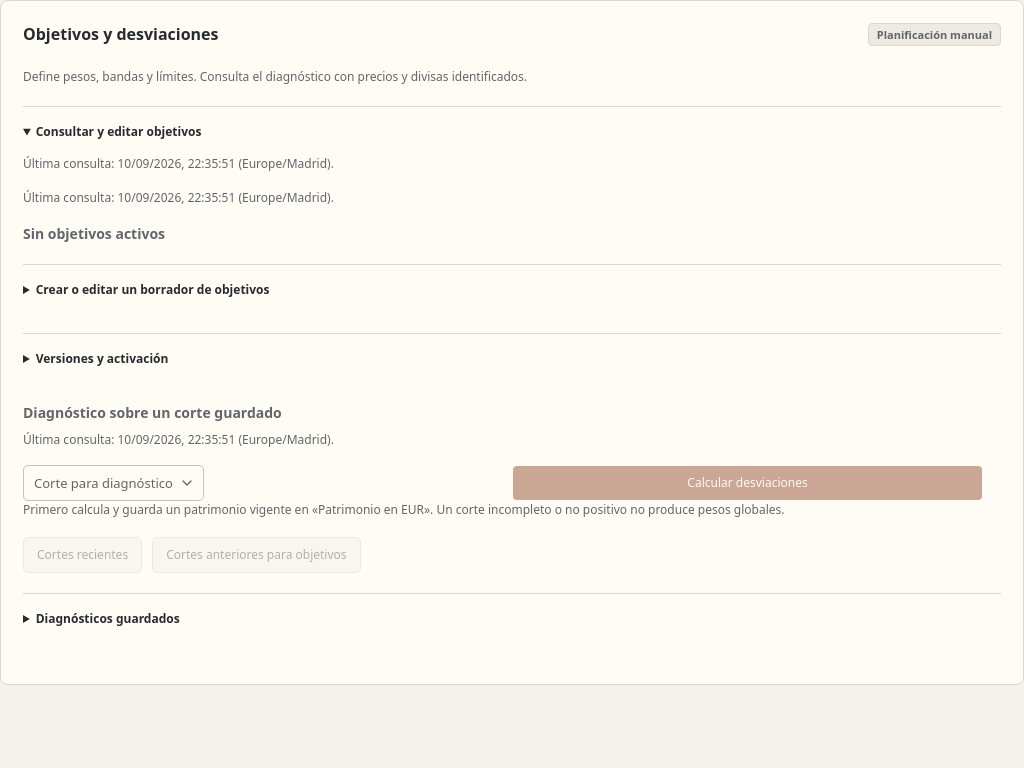
it: reads only when opened and preserves a draft when details are closed
Check: the heading "Sin objetivos activos" is shown, box [23, 224, 165, 243]
Click the heading "Crear o editar un borrador de objetivos": (153, 290) [36, 281, 270, 298]
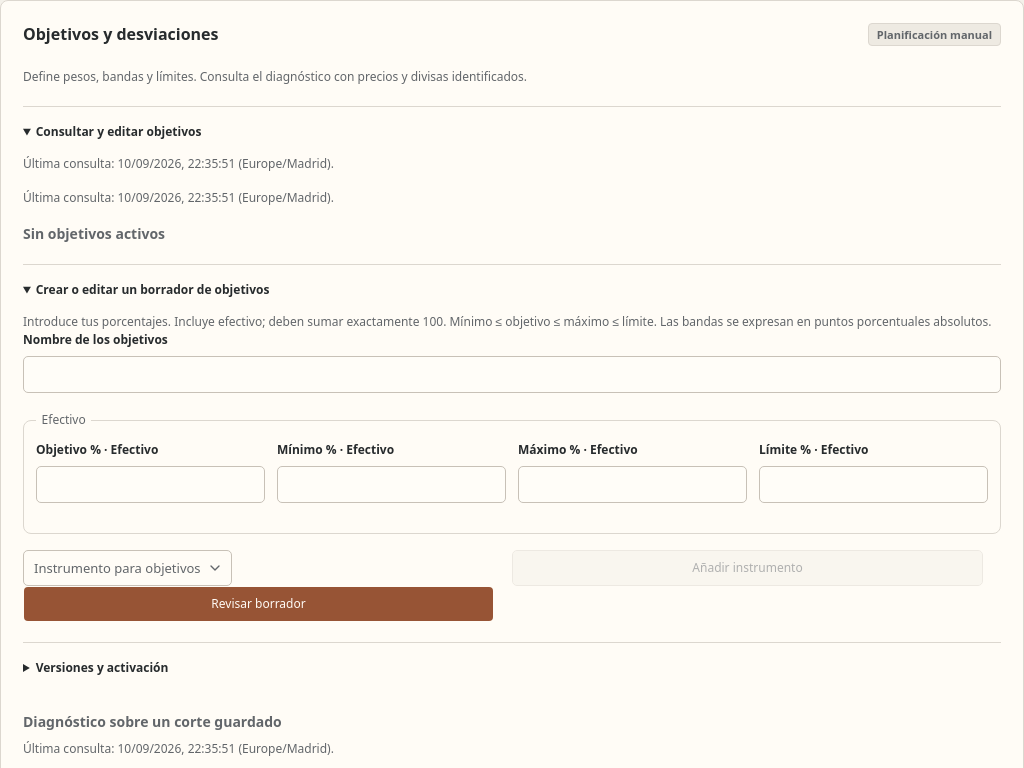
In the field labelled "Nombre de los objetivos": (512, 375) [23, 356, 1001, 393], type "Mi distribución"
In the number field labelled "Objetivo % · Efectivo": (150, 485) [36, 466, 265, 503], type "100"
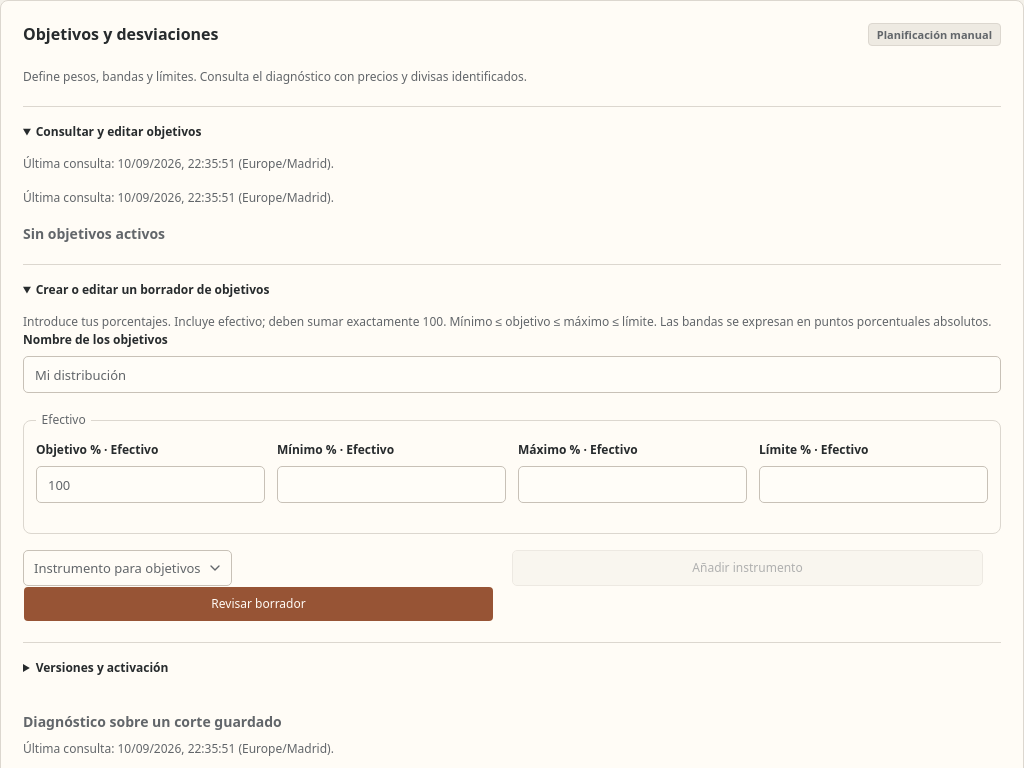
In the number field labelled "Mínimo % · Efectivo": (392, 485) [277, 466, 506, 503], type "90"
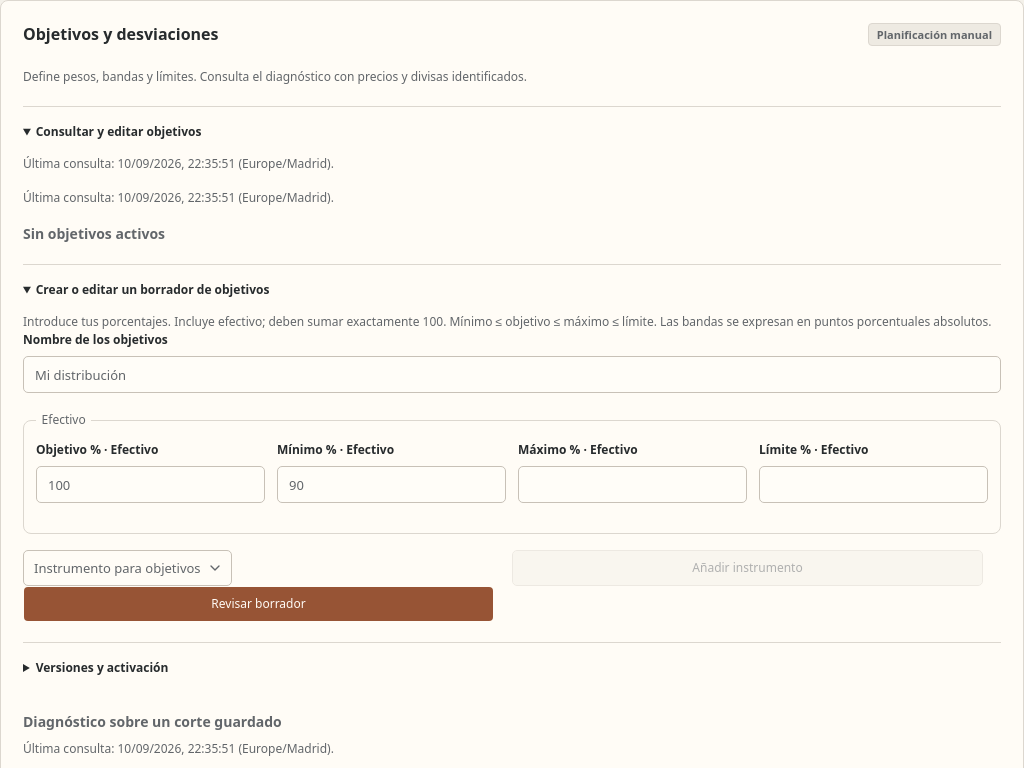
In the number field labelled "Máximo % · Efectivo": (632, 485) [518, 466, 747, 503], type "100"
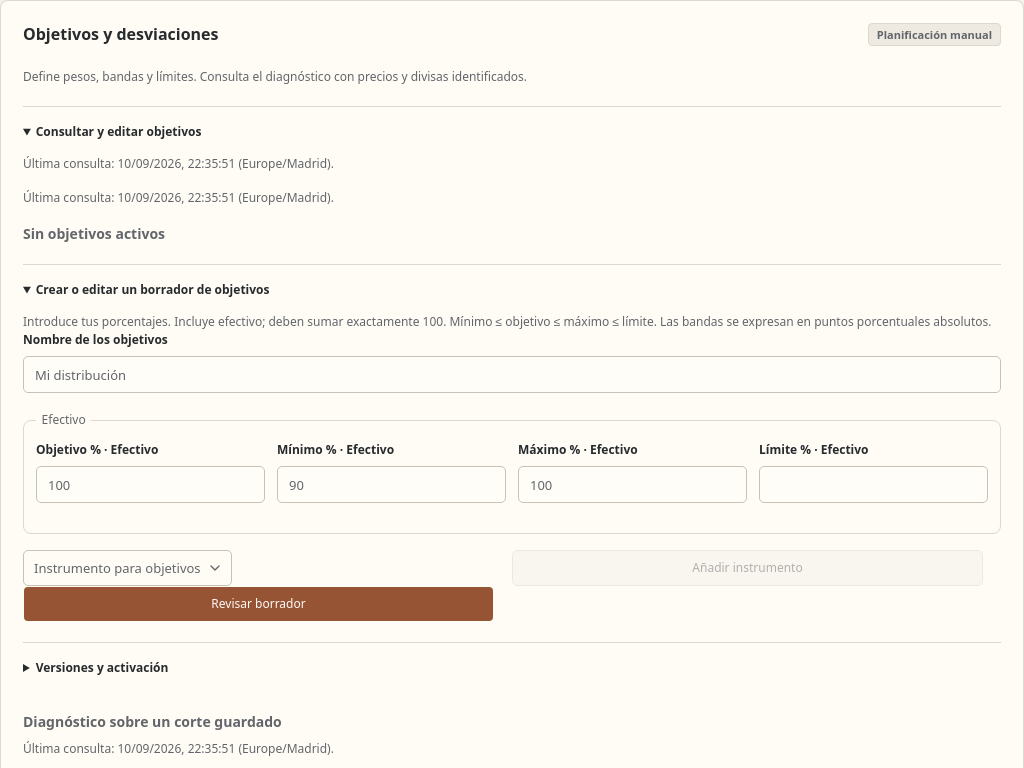
In the number field labelled "Límite % · Efectivo": (874, 485) [759, 466, 988, 503], type "100"
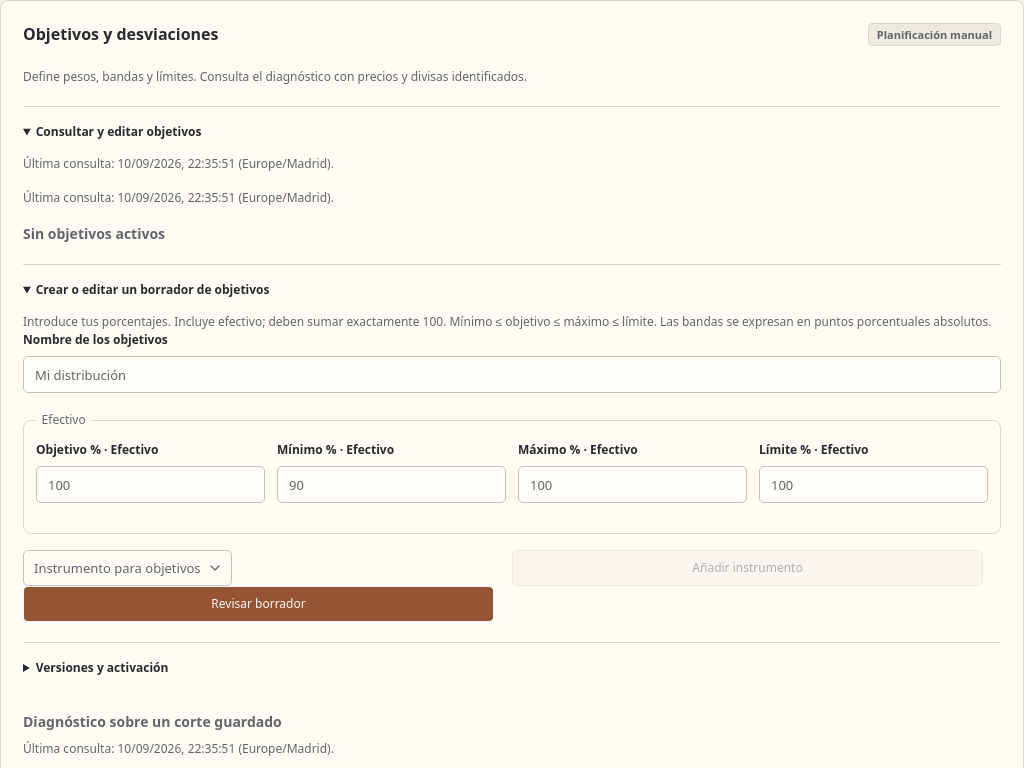
Click the button "Revisar borrador": (258, 604) [23, 586, 494, 622]
(page scrolled)
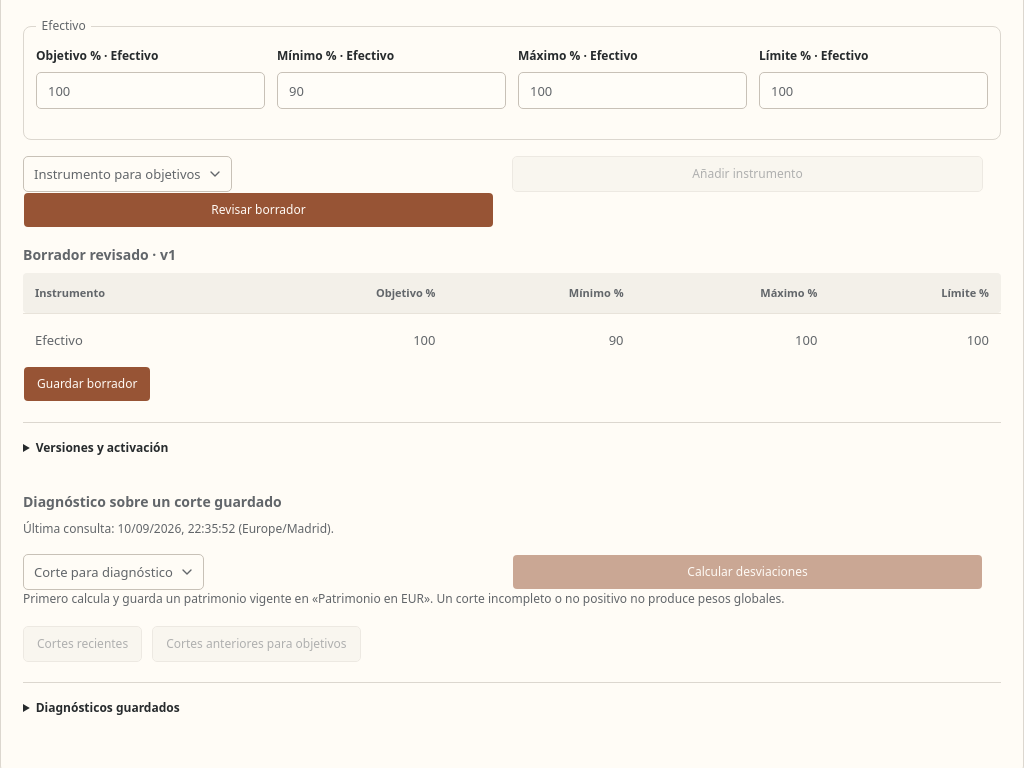
Check: the button "Guardar borrador" is shown, box [23, 366, 151, 402]
